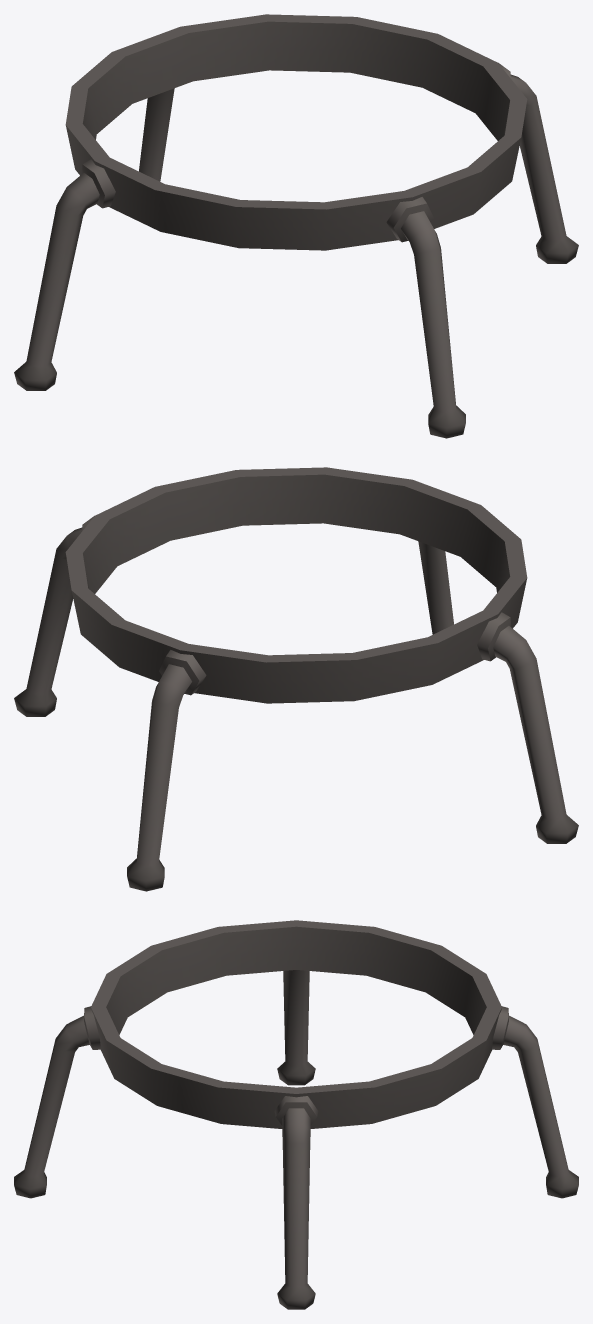
Rendered from CauldronStand.fbx.
3 renders of one model, top to bottom at view 1: azimuth 30°, elevation 25°; view 2: azimuth 150°, elevation 25°; view 3: azimuth 270°, elevation 25°, orthographic. The views are drawn at different scales.
Parts seen in each view (by area): view 1: CauldronStand; view 2: CauldronStand; view 3: CauldronStand.
Boxes of the visible parts, x1,y1,x2,y2 form: CauldronStand: (14, 14, 578, 438); CauldronStand: (14, 467, 578, 891); CauldronStand: (14, 920, 578, 1309).
Bounding box in the file's own units: 80.75 × 29.05 × 80.75.
